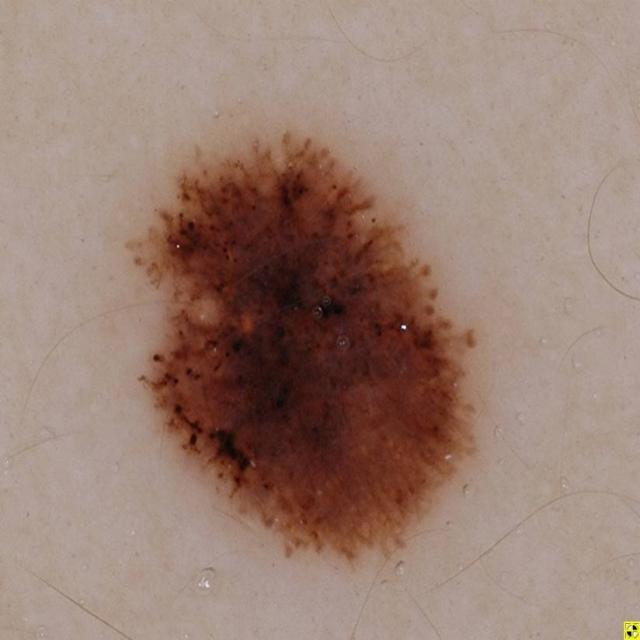Benign: (120, 118, 498, 574)
